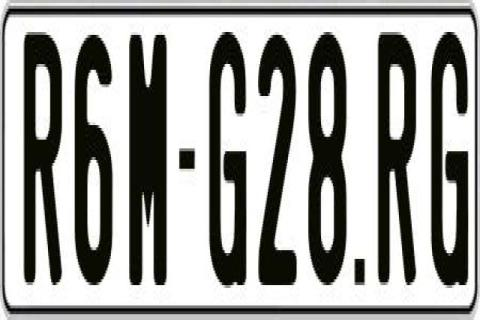0: (256, 32, 300, 285), (306, 32, 346, 288), (73, 26, 113, 276)
G: (207, 32, 248, 288), (431, 24, 467, 282)
M: (128, 29, 170, 294)
R: (22, 26, 66, 282), (377, 29, 417, 294)
